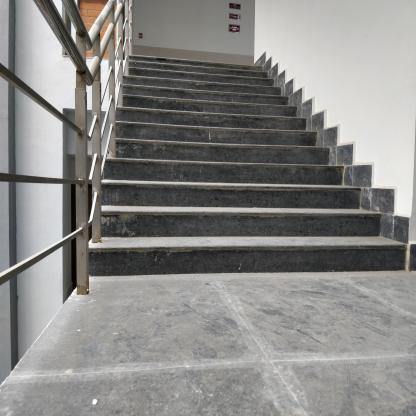stairs: (132, 64, 264, 290)
